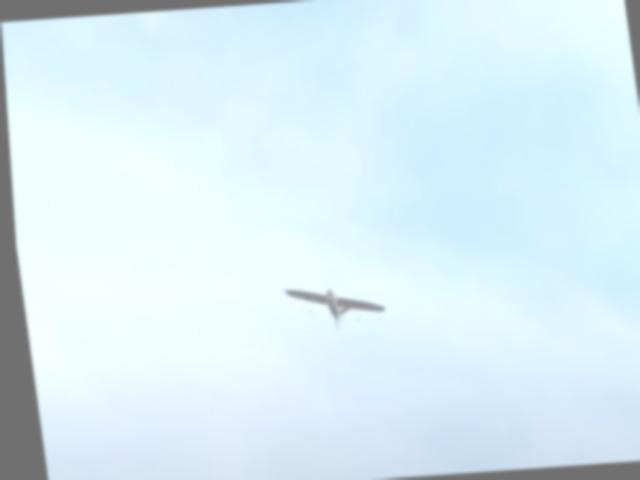uav: (274, 271, 387, 340)
